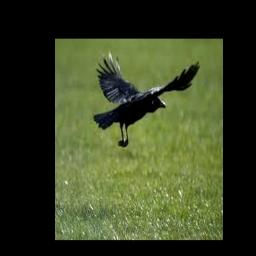Crow: (93, 47, 200, 147)
